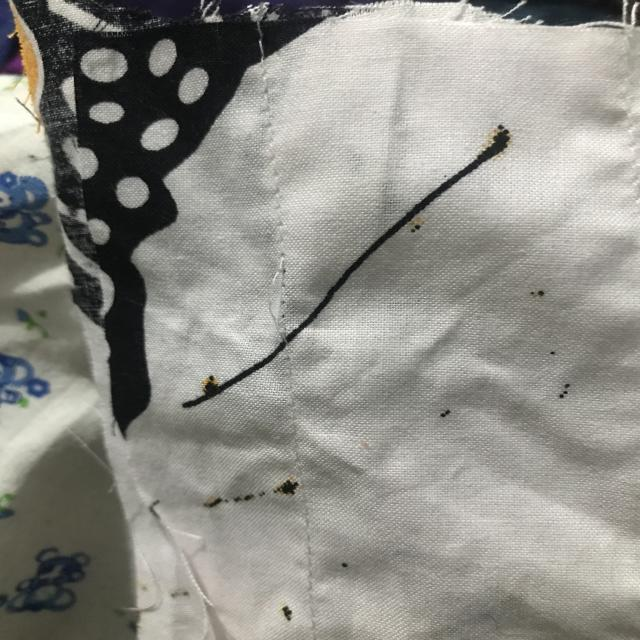skip: (247, 246, 306, 363)
